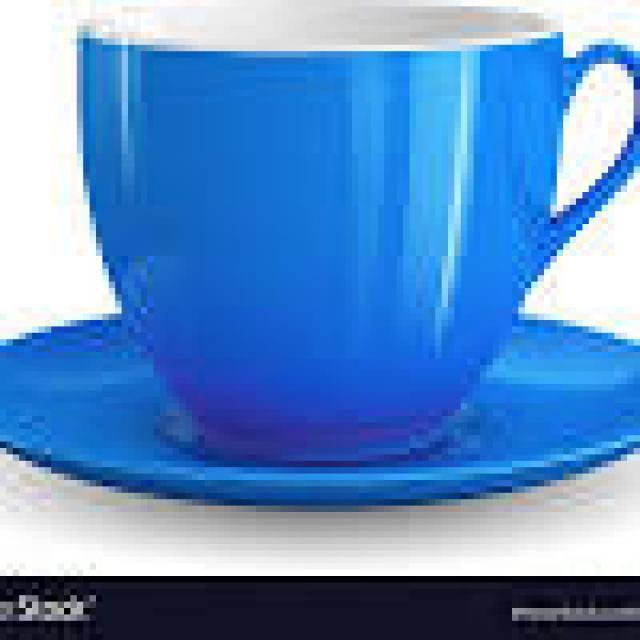taza: (68, 9, 640, 464)
